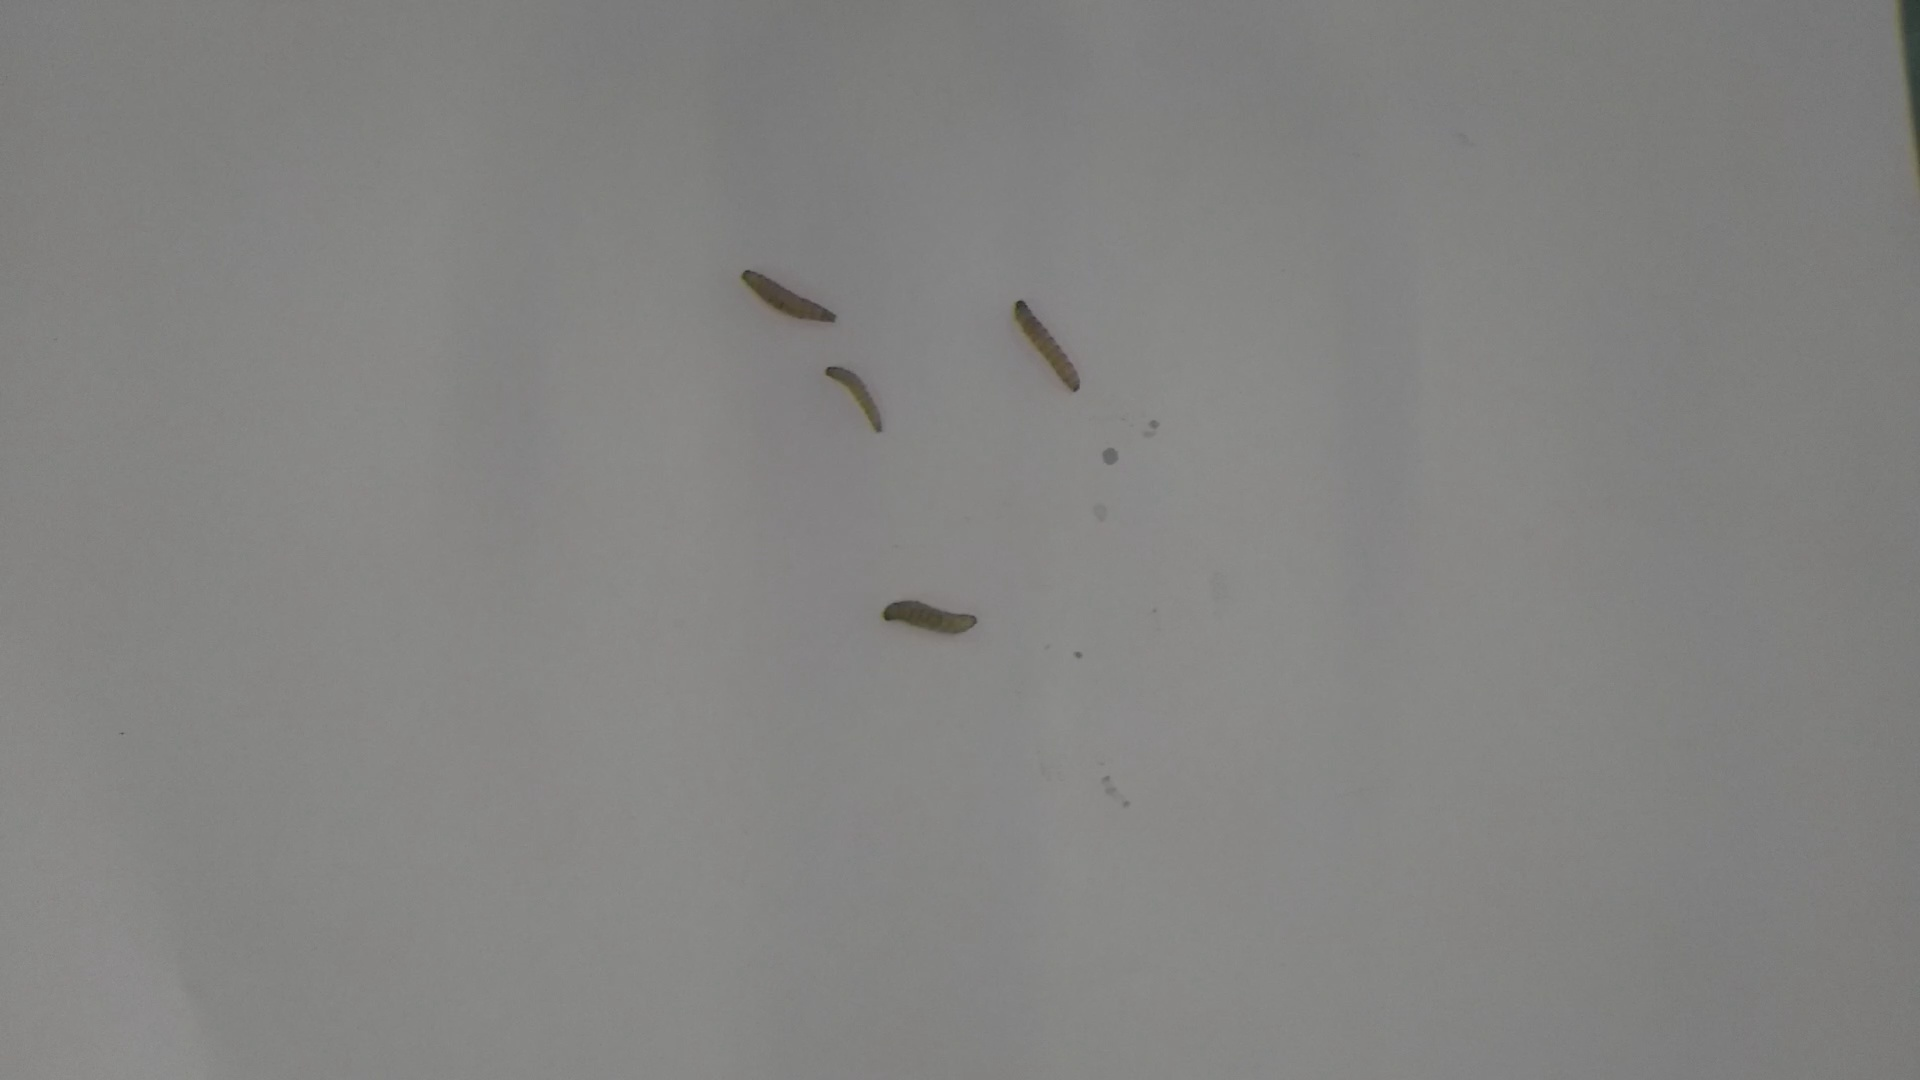efsb: (1004, 294, 1087, 402), (732, 260, 837, 326), (822, 360, 891, 436), (874, 589, 978, 640)
